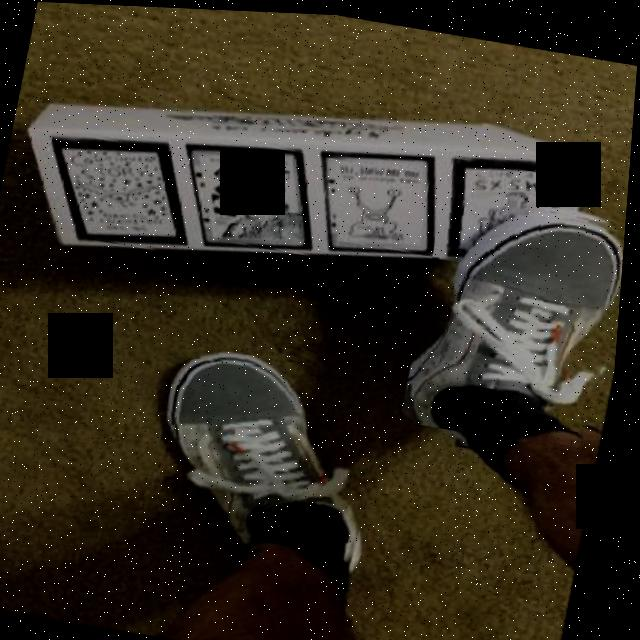shoe: (404, 182, 630, 448), (147, 340, 401, 569)
